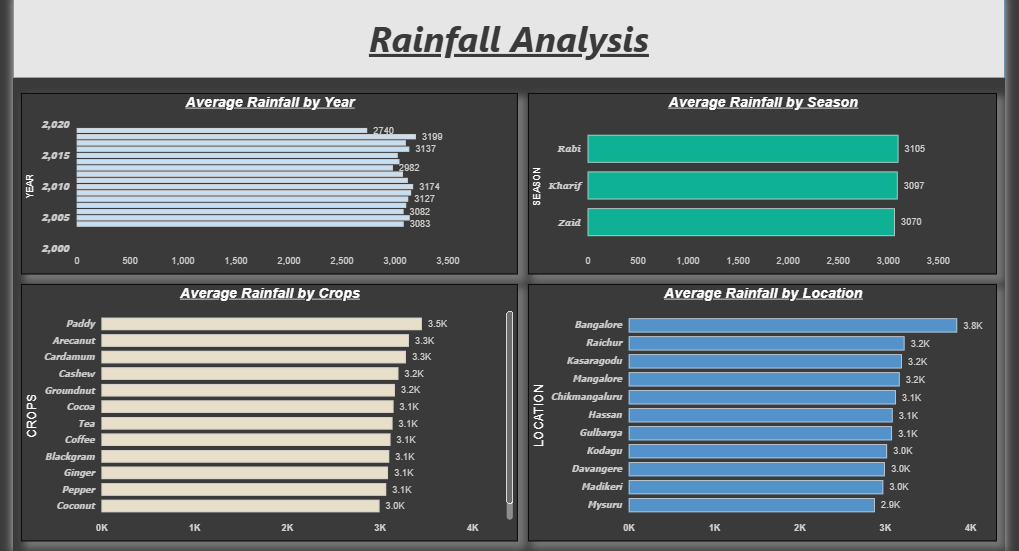

This screenshot's page, from the dashboard's own definition file:
{"tool":"powerbi","page":{"name":"Rainfall Analysis","canvas":[1280,720],"ordinal":0},"visuals":[{"type":"shape","box":[0,0,1279.8,107.3],"z":0},{"type":"barChart","title":"Average Rainfall by Year","fields":{"Y":["Avg(AGRICULTURE.RAINFALL)"],"Category":["AGRICULTURE.YEAR"]},"box":[10.3,126.4,640.7,233.6],"z":1},{"type":"barChart","title":"Average Rainfall by Season","fields":{"Y":["Avg(AGRICULTURE.RAINFALL)"],"Category":["AGRICULTURE.SEASON"]},"box":[664.2,126.4,605.4,233.6],"z":2},{"type":"barChart","title":"Average Rainfall by Crops","fields":{"Y":["Avg(AGRICULTURE.RAINFALL)"],"Category":["AGRICULTURE.CROPS"]},"box":[10.3,373.2,640.7,332.1],"z":3},{"type":"barChart","title":"Average Rainfall by Location","fields":{"Y":["Avg(AGRICULTURE.RAINFALL)"],"Category":["AGRICULTURE.LOCATION"]},"box":[664.2,373.2,605.4,332.1],"z":4}]}

Visuals, with their boxes on the page's 1280x720 design canvas (x1, y1, x2, y2). These are canvas units, not pixel positions in the 1019x551 screenshot, which may show the page scaled, cropped or inside an application window:
shape: x1=0, y1=0, x2=1280, y2=107
"Average Rainfall by Year" barChart: x1=10, y1=126, x2=651, y2=360
"Average Rainfall by Season" barChart: x1=664, y1=126, x2=1270, y2=360
"Average Rainfall by Crops" barChart: x1=10, y1=373, x2=651, y2=705
"Average Rainfall by Location" barChart: x1=664, y1=373, x2=1270, y2=705
